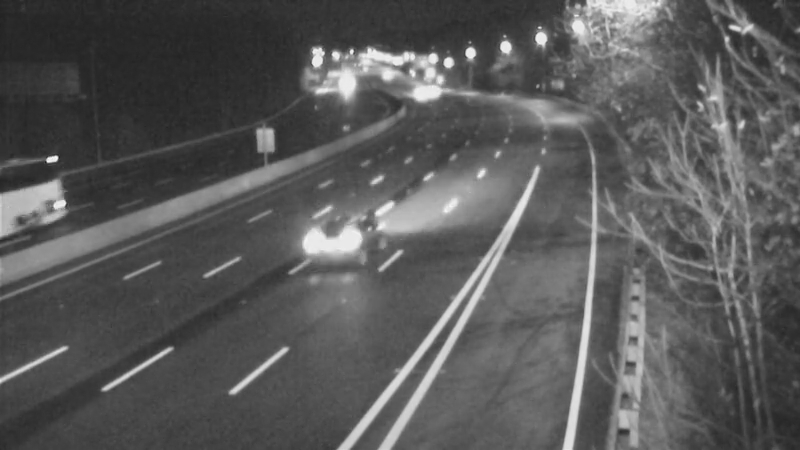vehicle: (295, 201, 375, 281), (1, 168, 71, 248), (408, 65, 458, 115), (392, 70, 442, 120)
